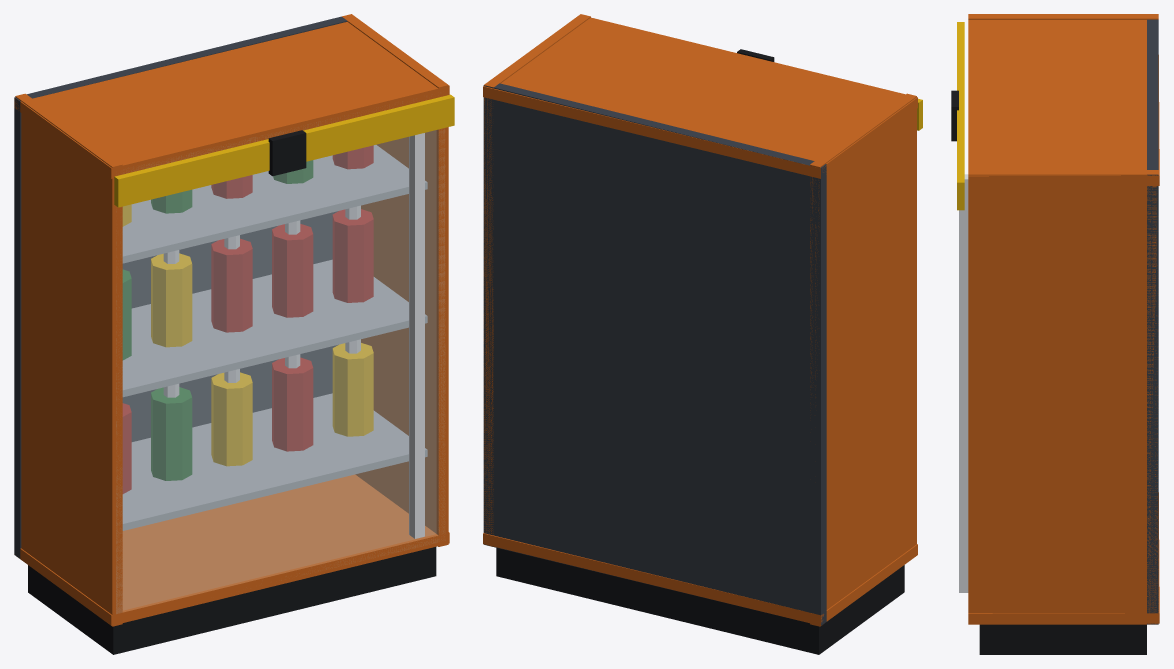
File: weaponrack_canister_cabinet.glb
3 renders of one model, left to right at view 1: azimuth 30°, elevation 25°; view 2: azimuth 150°, elevation 25°; view 3: azimuth 270°, elevation 25°, orthographic. The views are drawn at different scales.
Visible parts, largest first — view 1: weaponrack_canister_cabinet; view 2: weaponrack_canister_cabinet; view 3: weaponrack_canister_cabinet.
Part boxes in pixels (bbox=[...]): weaponrack_canister_cabinet: bbox=[14, 14, 454, 654]; weaponrack_canister_cabinet: bbox=[483, 14, 922, 654]; weaponrack_canister_cabinet: bbox=[951, 14, 1159, 654].
Size of the model in its own units: 1.01 by 1.4 by 0.548.
